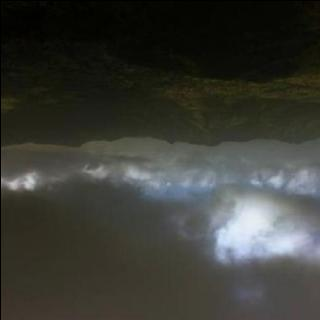Nimbostratus: (0, 154, 320, 320)
